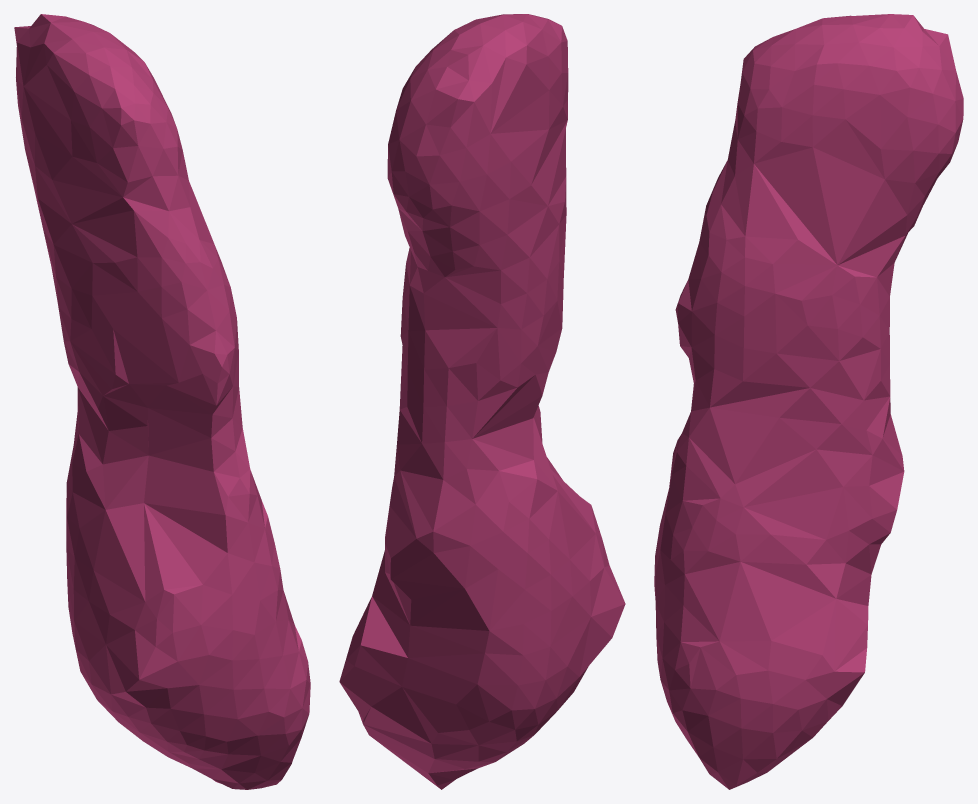
The model's file is Model_10418_LH__Nucleus_of_the_brachium_of_the_inferior_colliculus_(BIC).obj.
3 views of the same model, side by side, from view 1: azimuth 30°, elevation 25°; view 2: azimuth 150°, elevation 25°; view 3: azimuth 270°, elevation 25° (orthographic). The views are drawn at different scales.
Size of the model in its own units: 0.6019 by 2.24 by 0.883.
